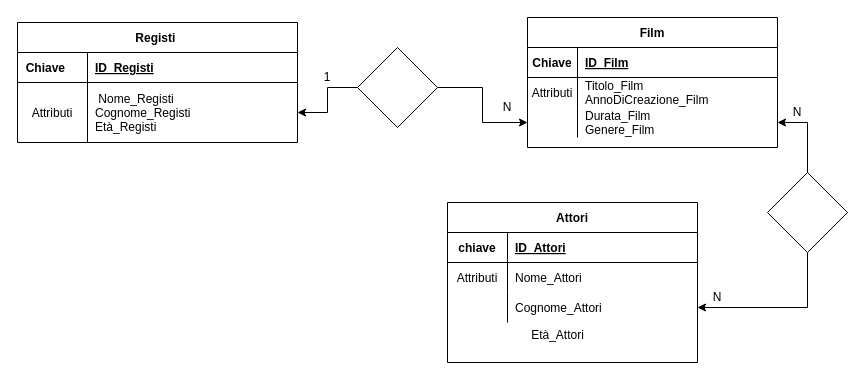
Image size: 865x380. Some labels were removed from this diagram. The shapes that lost their labels are listed below. From the top down, each one's centre as x and y in pixels, then its label:
At (x=397, y=87): "Dirige".
At (x=807, y=212): "Interpreta".
